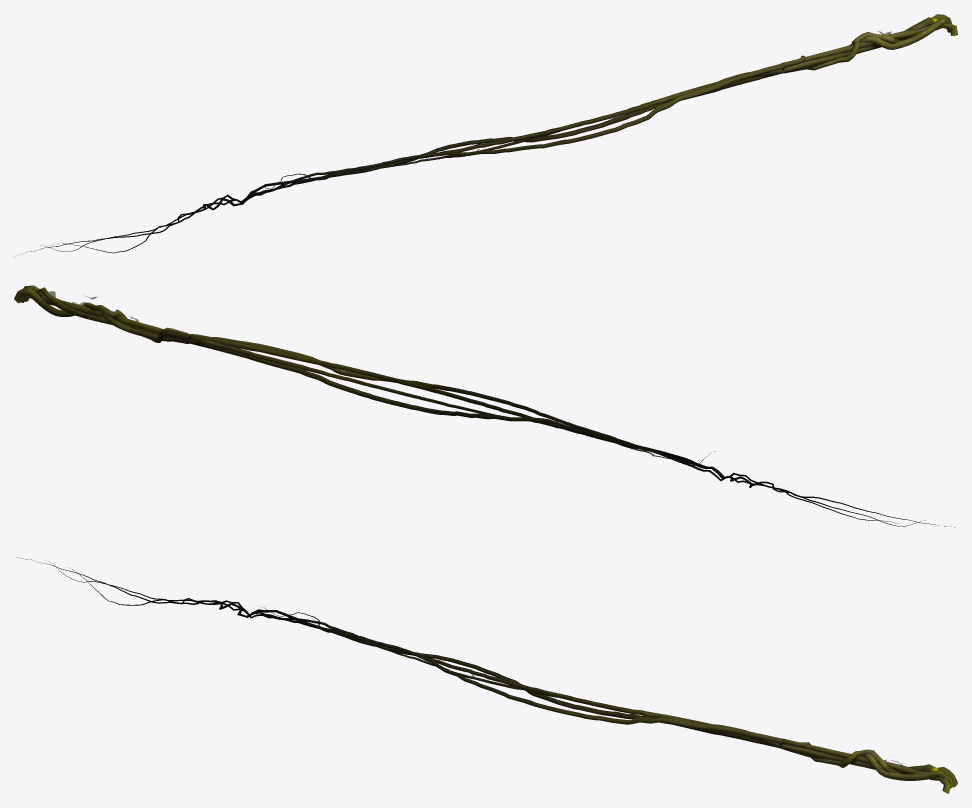
Rendered from racine.glb.
3 renders of one model, top to bottom at view 1: azimuth 30°, elevation 25°; view 2: azimuth 150°, elevation 25°; view 3: azimuth 330°, elevation 25°, orthographic.
Parts seen in each view (by area): view 1: Root_curve1.004; view 2: Root_curve1.004; view 3: Root_curve1.004.
Boxes of the visible parts, <box> form: Root_curve1.004: <box>19,14,957,254</box>; Root_curve1.004: <box>14,285,954,527</box>; Root_curve1.004: <box>16,557,957,793</box>.
Bounding box in the file's own units: 162 × 5.77 × 8.54.
Materials: 2 (1 with a texture image).
